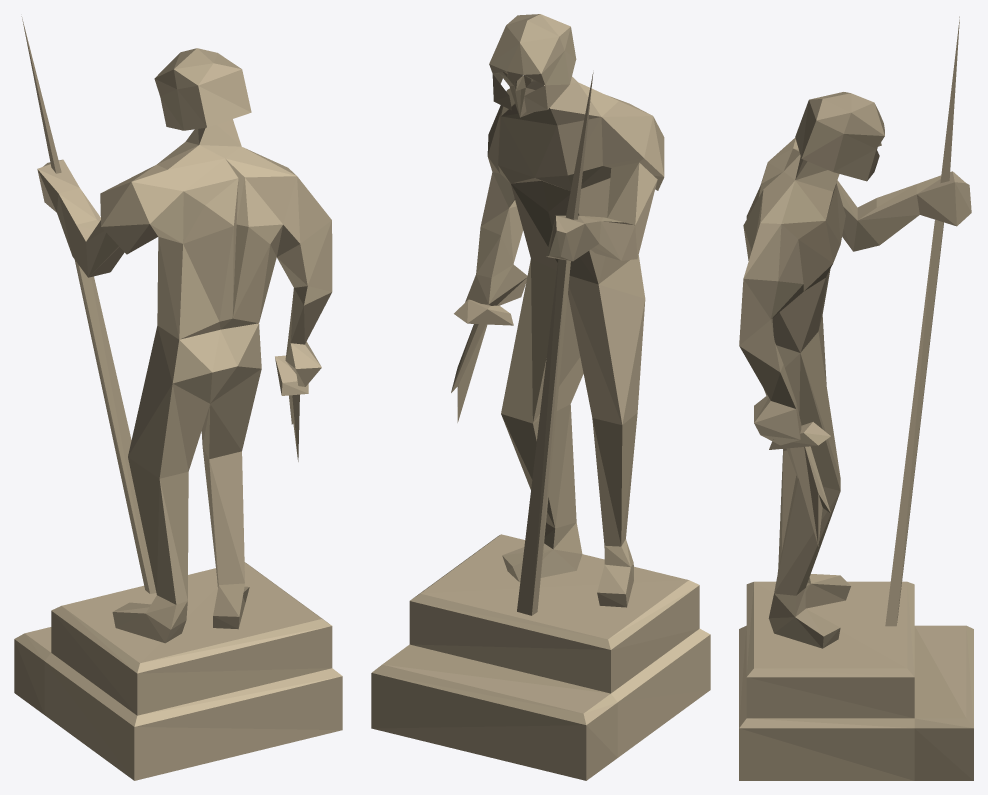
File: dstatue3.fbx
The picture shows the model from 3 angles, left to right: view 1: azimuth 30°, elevation 25°; view 2: azimuth 150°, elevation 25°; view 3: azimuth 270°, elevation 25°; orthographic projection. The views are drawn at different scales.
Visible parts, largest first — view 1: Object Statue 2024-03-15_18-58-27; view 2: Object Statue 2024-03-15_18-58-27; view 3: Object Statue 2024-03-15_18-58-27.
Boxes of the visible parts, <box> form: Object Statue 2024-03-15_18-58-27: <box>14,16,342,780</box>; Object Statue 2024-03-15_18-58-27: <box>371,14,710,780</box>; Object Statue 2024-03-15_18-58-27: <box>739,16,973,780</box>.
Bounding box in the file's own units: 22200 × 69700 × 22200.
